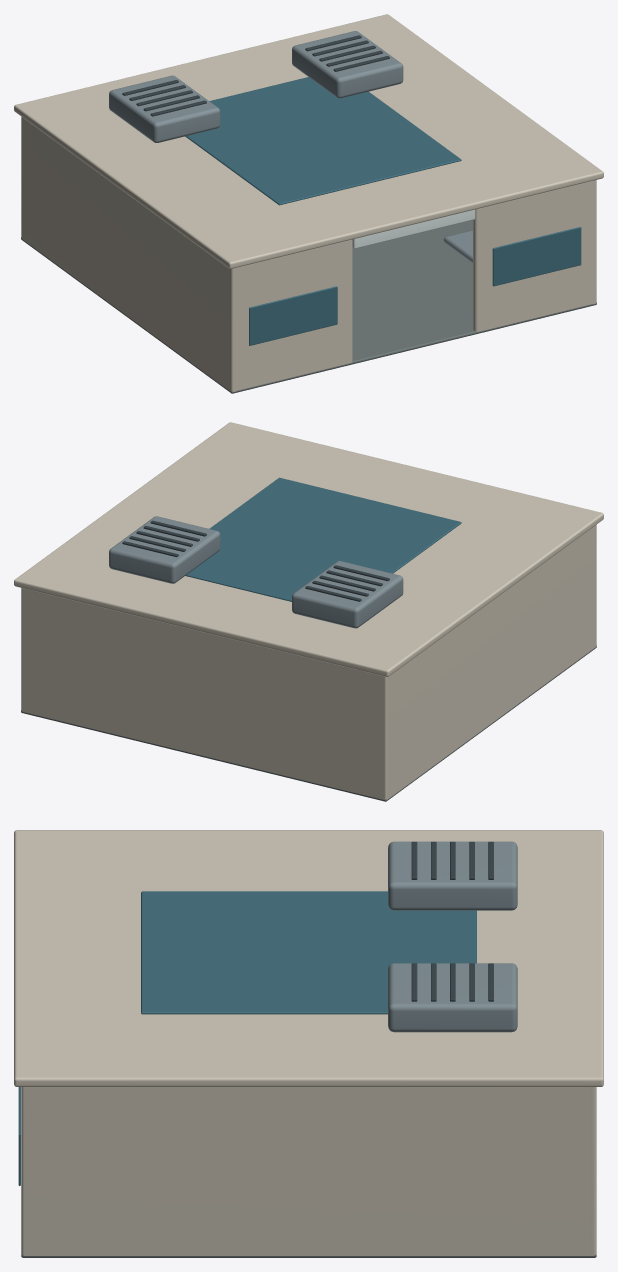
The model's file is transit-module.glb.
The picture shows the model from 3 angles, top to bottom: view 1: azimuth 30°, elevation 25°; view 2: azimuth 150°, elevation 25°; view 3: azimuth 270°, elevation 25°; orthographic projection. The views are drawn at different scales.
Parts seen in each view (by area): view 1: Roof perimeter.001, Side wall.002, Skylight.001, Raised foundation.001, Entry wall.003, Entry wall.002, Roof HVAC.002, Roof HVAC.003, Front inset.003, Front inset.002, Entry lintel.001, Station bench.002; view 2: Roof perimeter.001, Rear structural wall.001, Side wall.002, Skylight.001, Roof HVAC.002, Roof HVAC.003, Raised foundation.001; view 3: Roof perimeter.001, Side wall.003, Skylight.001, Roof HVAC.003, Roof HVAC.002, Rear structural wall.001, Raised foundation.001.
Part boxes in pixels (box(x1,y1,x2,y2)): Roof perimeter.001: box(14, 14, 603, 268); Side wall.002: box(21, 117, 235, 391); Skylight.001: box(185, 77, 461, 205); Raised foundation.001: box(21, 220, 596, 393); Entry wall.003: box(473, 181, 593, 331); Entry wall.002: box(229, 239, 352, 390); Roof HVAC.002: box(109, 75, 220, 142); Roof HVAC.003: box(292, 31, 403, 98); Front inset.003: box(492, 227, 581, 286); Front inset.002: box(249, 286, 337, 345); Entry lintel.001: box(352, 209, 475, 248); Station bench.002: box(444, 230, 472, 262); Roof perimeter.001: box(14, 422, 603, 676); Rear structural wall.001: box(22, 588, 388, 799); Side wall.002: box(382, 525, 596, 799); Skylight.001: box(185, 477, 461, 601); Roof HVAC.002: box(292, 561, 403, 628); Roof HVAC.003: box(109, 516, 220, 583); Raised foundation.001: box(21, 645, 596, 801); Roof perimeter.001: box(14, 830, 603, 1086); Side wall.003: box(21, 1087, 596, 1255); Skylight.001: box(141, 891, 476, 1014); Roof HVAC.003: box(388, 963, 517, 1032); Roof HVAC.002: box(388, 841, 517, 910); Rear structural wall.001: box(590, 1087, 596, 1255); Raised foundation.001: box(21, 1254, 596, 1257).
Size of the model in its own units: 12.3 by 4.98 by 12.3.
